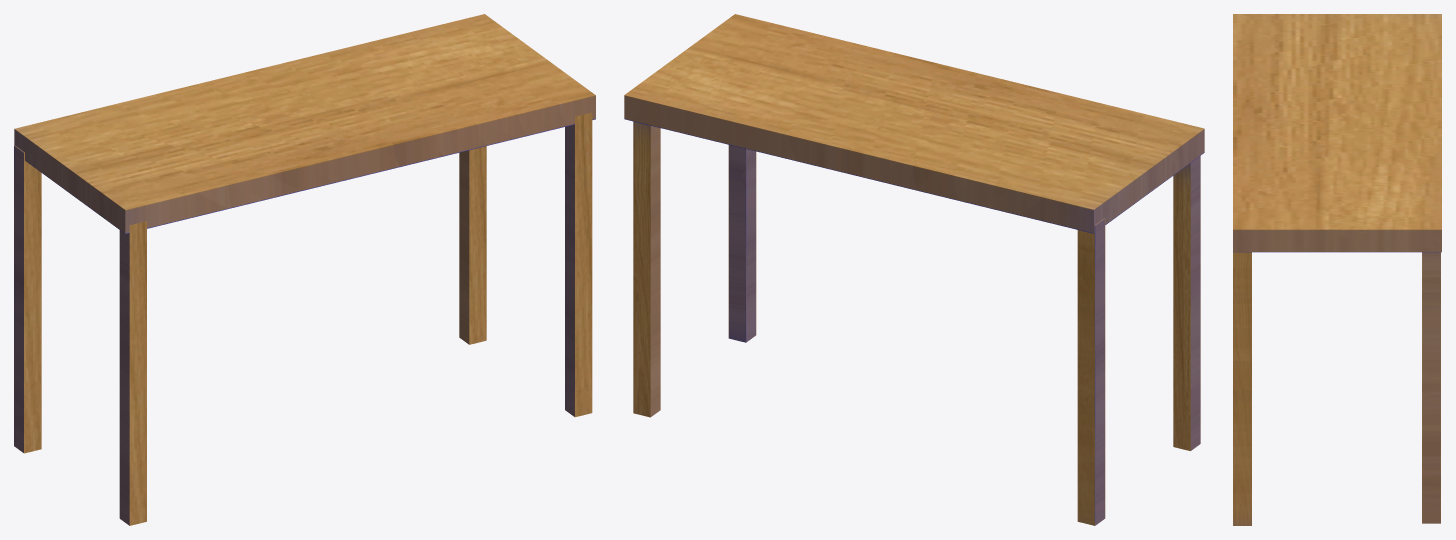
The model's file is sunroof.fbx.
3 views of the same model, side by side, from view 1: azimuth 30°, elevation 25°; view 2: azimuth 150°, elevation 25°; view 3: azimuth 270°, elevation 25° (orthographic). The views are drawn at different scales.
Visible parts, largest first — view 1: Node #0, Node #2, Node #4, Node #1, Node #3; view 2: Node #0, Node #1, Node #3, Node #2, Node #4; view 3: Node #0, Node #4, Node #3.
Part boxes in pixels (x1=…): Node #0: x1=14, y1=14, x2=595, y2=233; Node #2: x1=119, y1=221, x2=146, y2=525; Node #4: x1=565, y1=112, x2=592, y2=417; Node #1: x1=14, y1=145, x2=41, y2=453; Node #3: x1=459, y1=146, x2=486, y2=344; Node #0: x1=624, y1=14, x2=1204, y2=233; Node #1: x1=1077, y1=218, x2=1105, y2=525; Node #3: x1=633, y1=121, x2=660, y2=417; Node #2: x1=1173, y1=156, x2=1200, y2=450; Node #4: x1=728, y1=145, x2=756, y2=342; Node #0: x1=1233, y1=14, x2=1441, y2=252; Node #4: x1=1233, y1=252, x2=1251, y2=525; Node #3: x1=1422, y1=252, x2=1440, y2=523.
Size of the model in its own units: 1.9 by 1.22 by 0.7772.
Materials: 5 (5 with a texture image).
